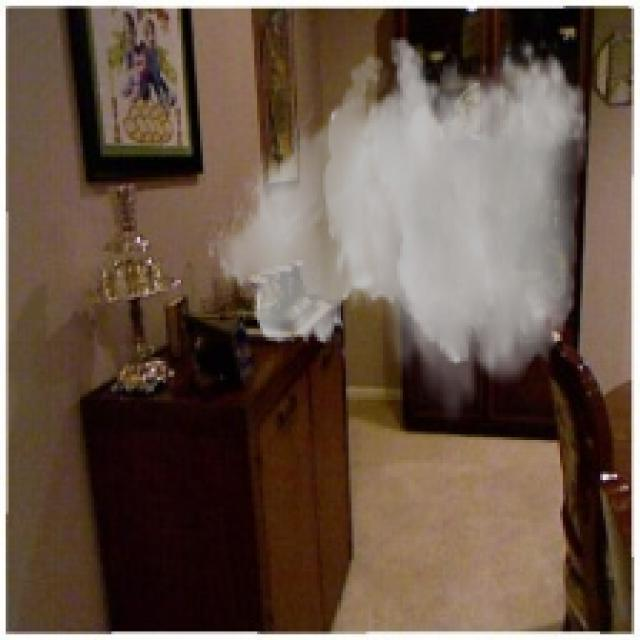Smoke: (206, 34, 588, 429)
